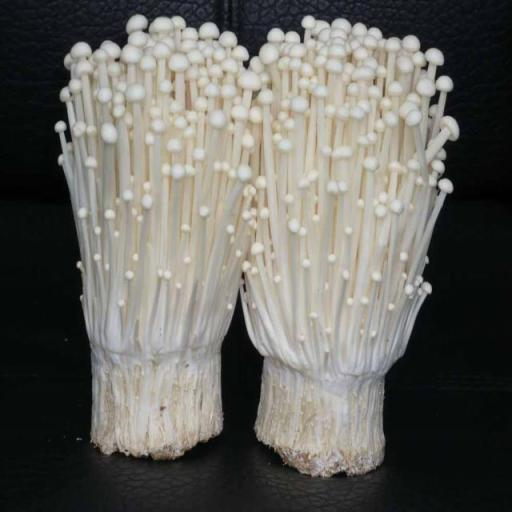Enoki Mushroom: (234, 18, 458, 478), (56, 15, 244, 449)
